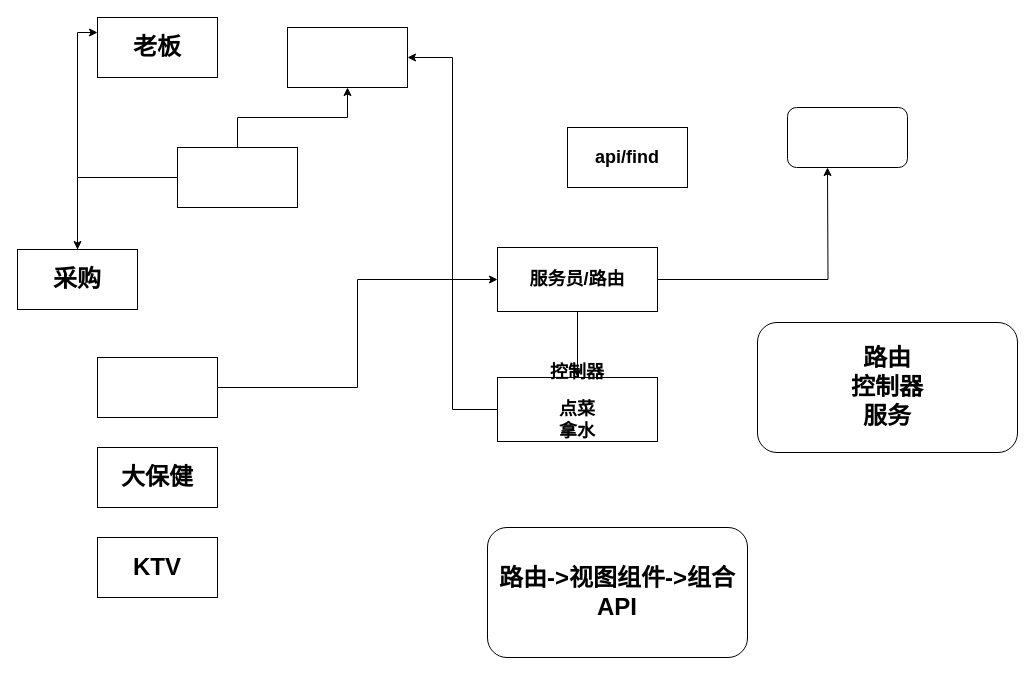
Some shapes in this 1035 by 675 pixel diagram are drawn without their labels. The shapes that lost their labels are listed below. From the top down, each one's box as (x1, y1, x2, y2) in pixels, then its label:
(286, 26, 408, 88): 炒土豆丝 炸鱼
(786, 106, 908, 168): 客户
(176, 146, 298, 208): 厨师
(96, 356, 218, 418): 服务员
